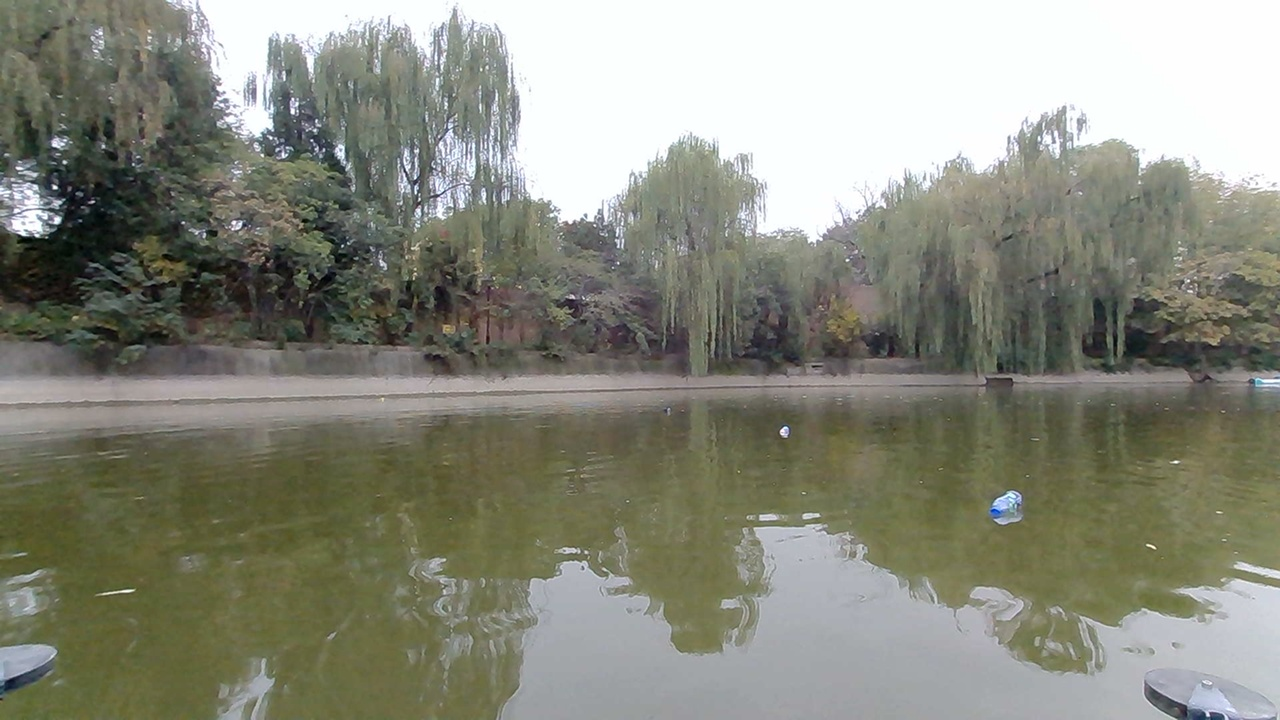bottle: (980, 481, 1038, 531), (764, 412, 803, 441), (660, 395, 688, 421)
